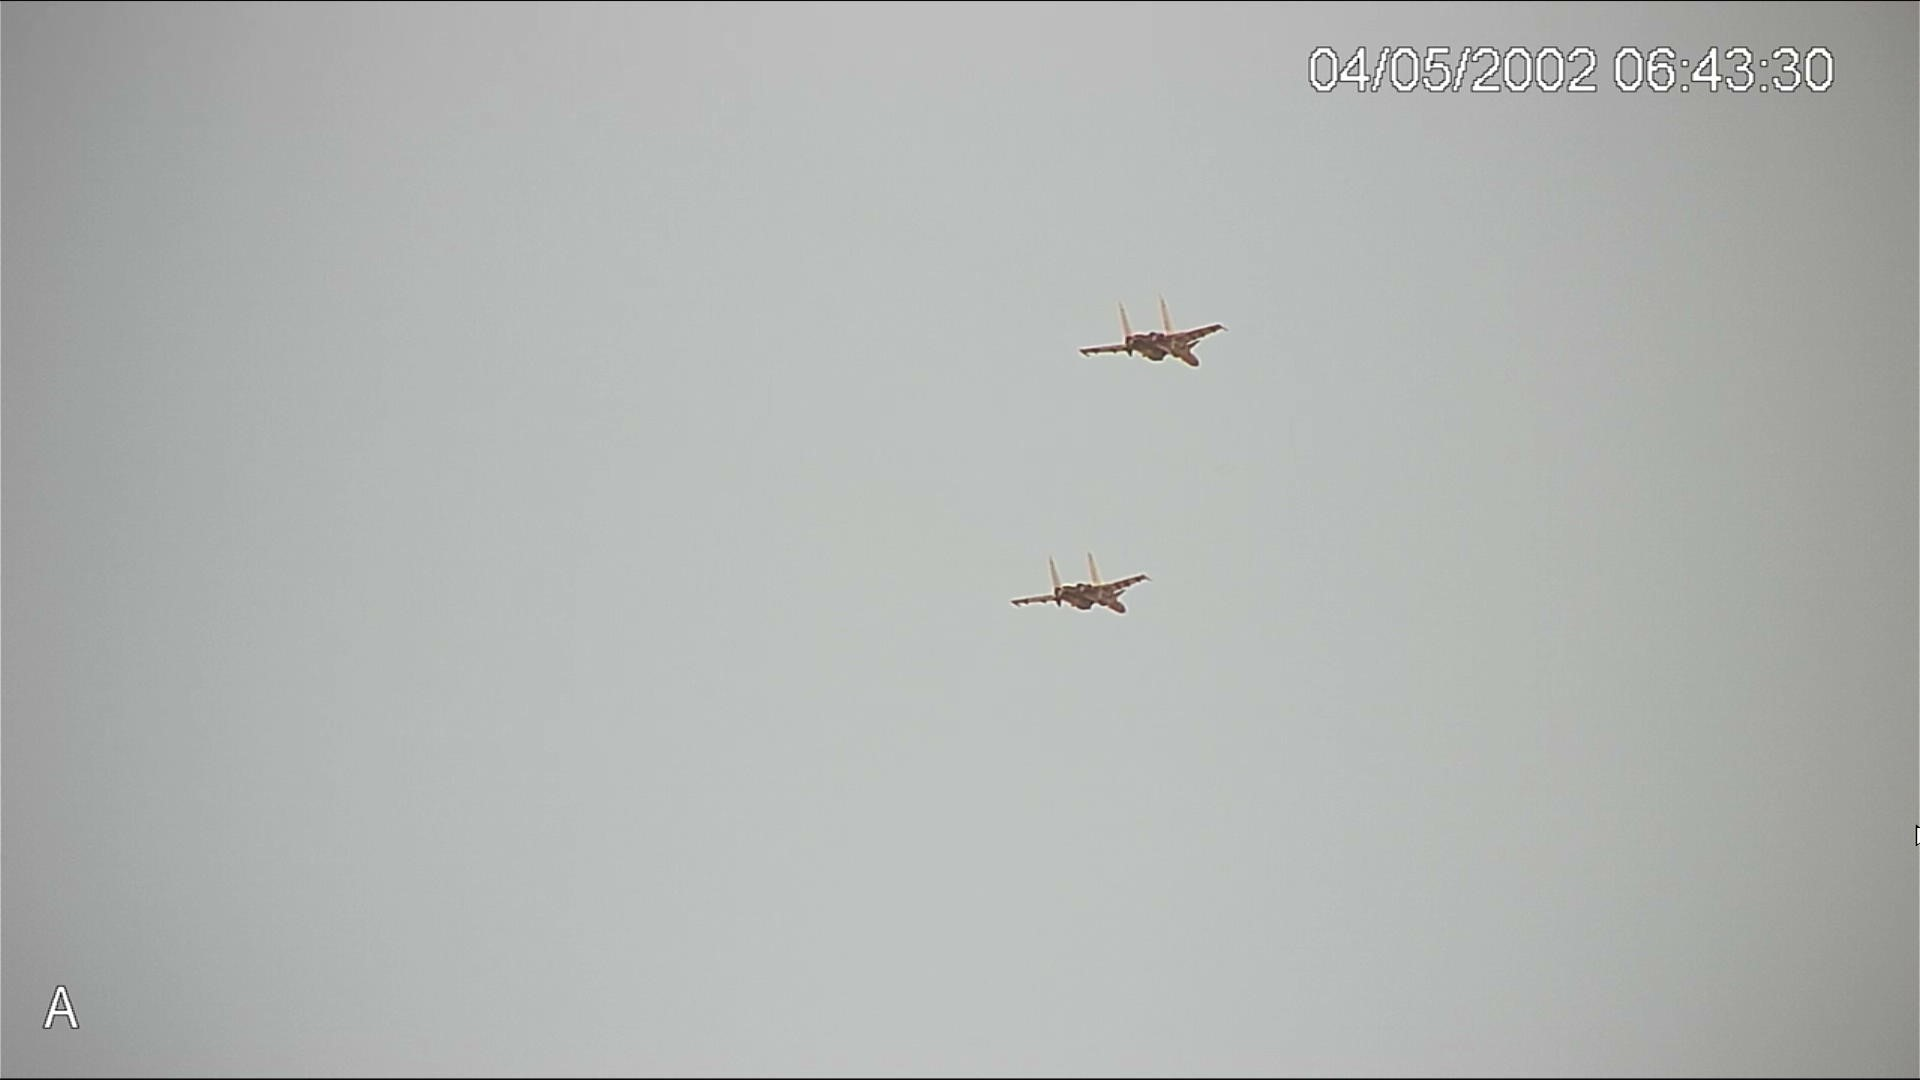SU_30: (997, 554, 1155, 621), (1069, 301, 1226, 364)
